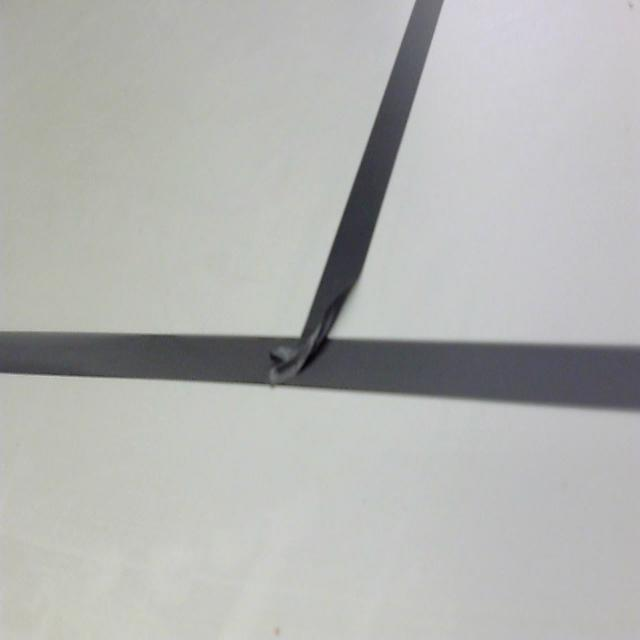tape: (0, 0, 640, 462)
